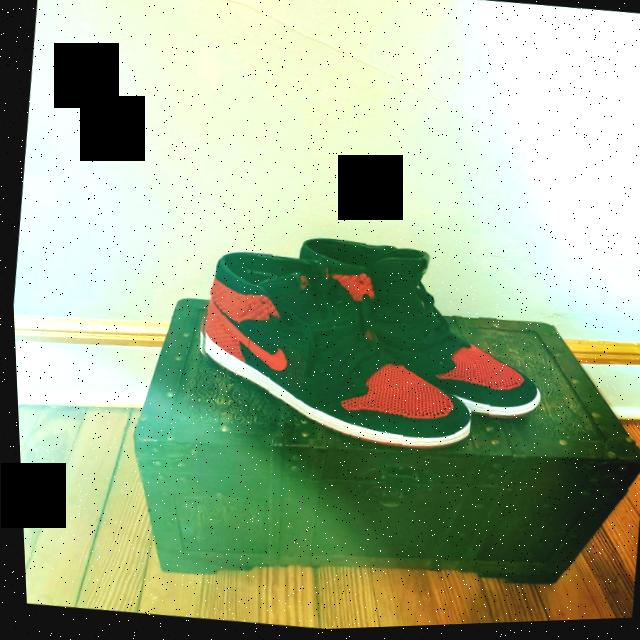shoe: (179, 239, 486, 465), (275, 228, 561, 438)
